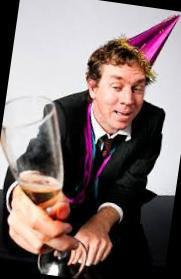Drunk: (101, 66, 147, 129)
